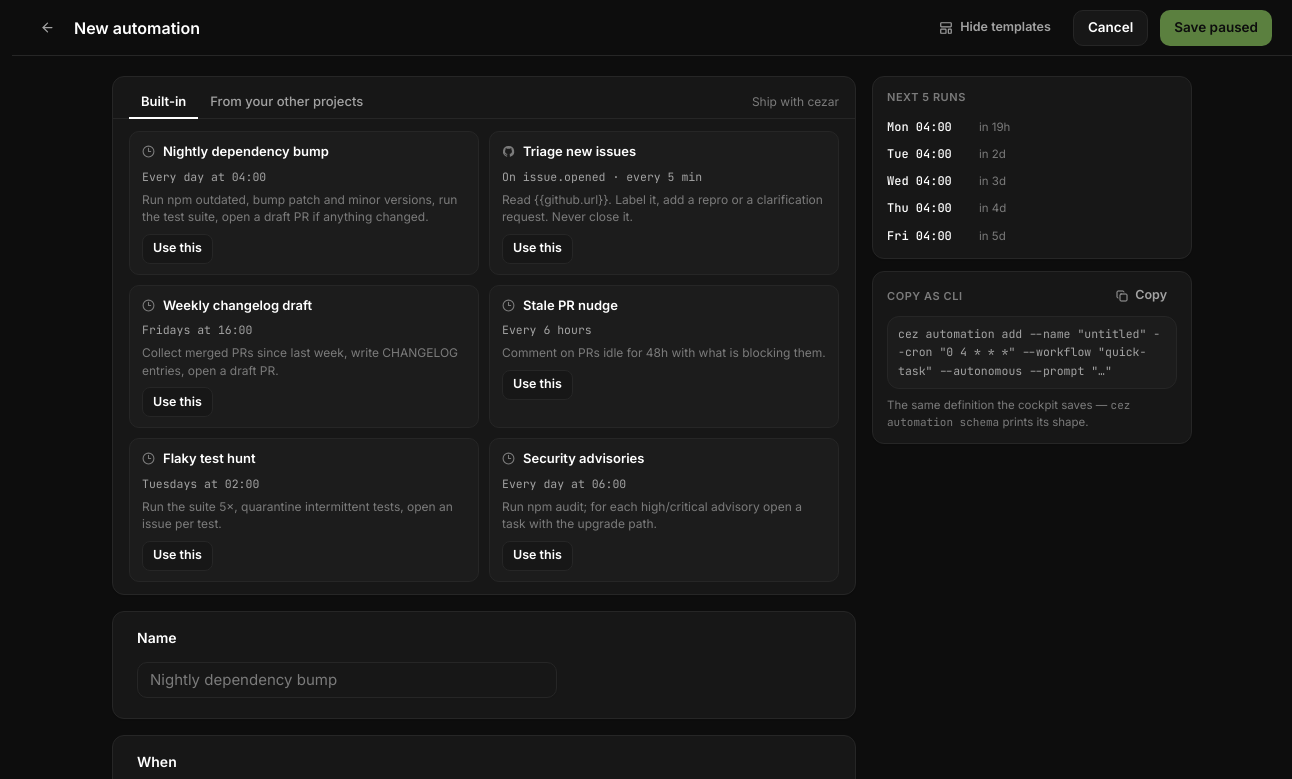
AutomationEditor — new › opens with the palette, a paused daily draft, and a save disabled until name and prompt
Expected: the heading "New automation" is shown, [74,16,200,40]
Expected: the element that starts with "Built-in" is shown, [112,76,856,595]
In the field named "Name": (347, 680) [137,662,557,698], type "Nightly bump"
(page scrolled)
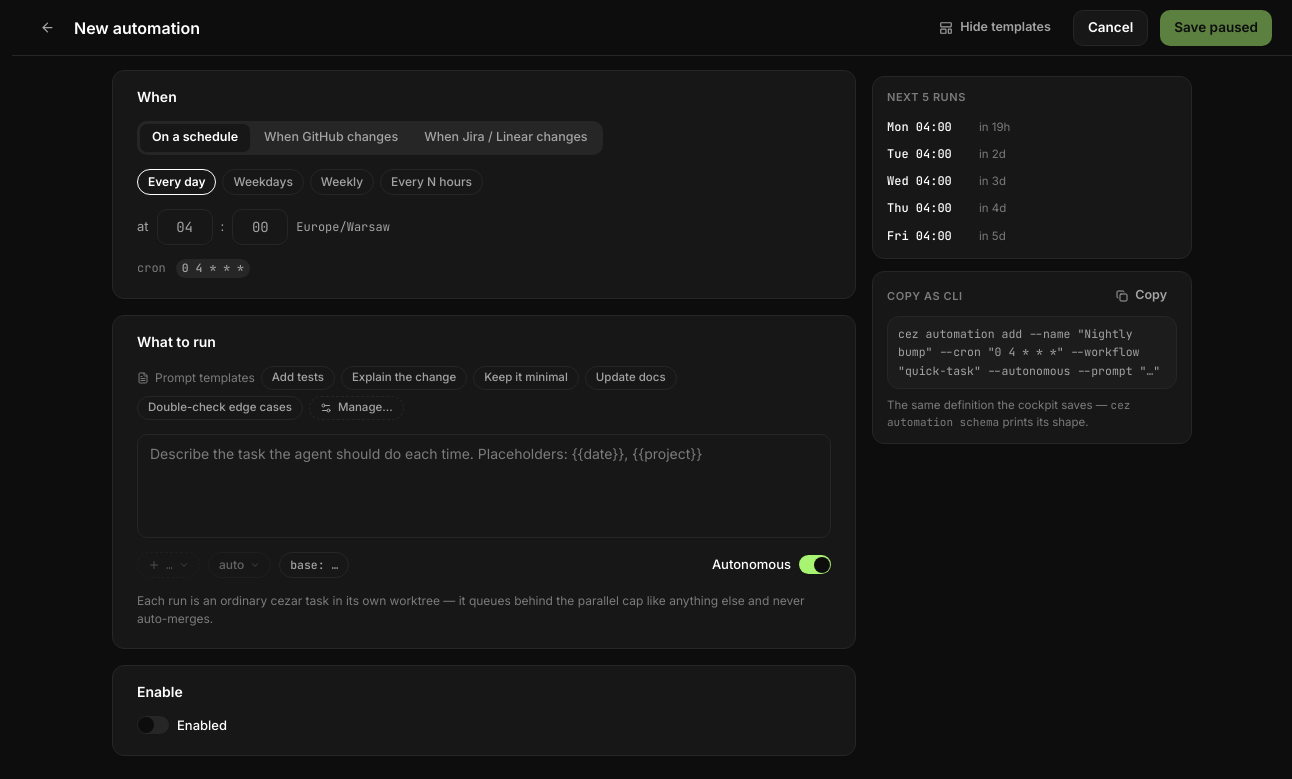
Expected: the button "Save paused" is disabled, [1160,10,1272,46]
Replace the text in the text box named "Prompt" with "Bump the deps.": (484, 486) [137,434,831,538]
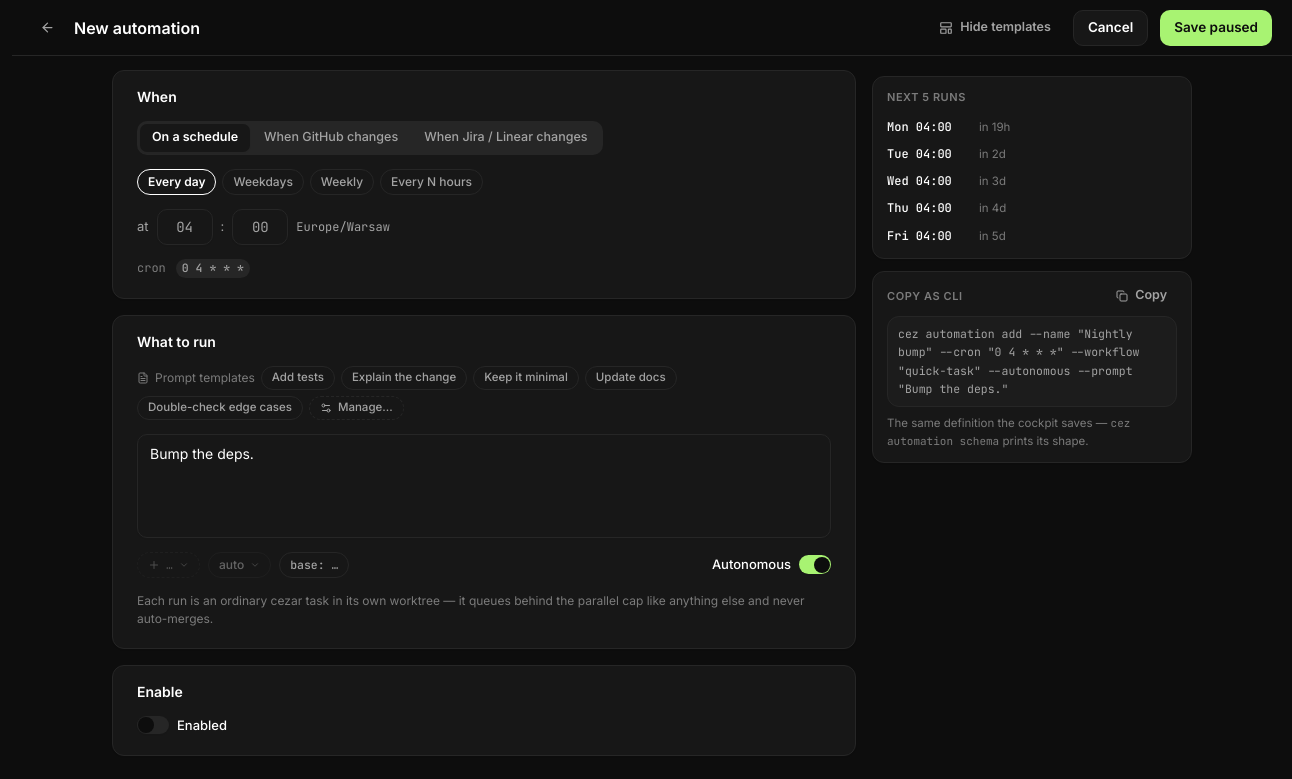
Result: the button "Save paused" is enabled at [1160,10,1272,46]
Click the switch named "Enabled": click(153, 725) [137,716,169,734]
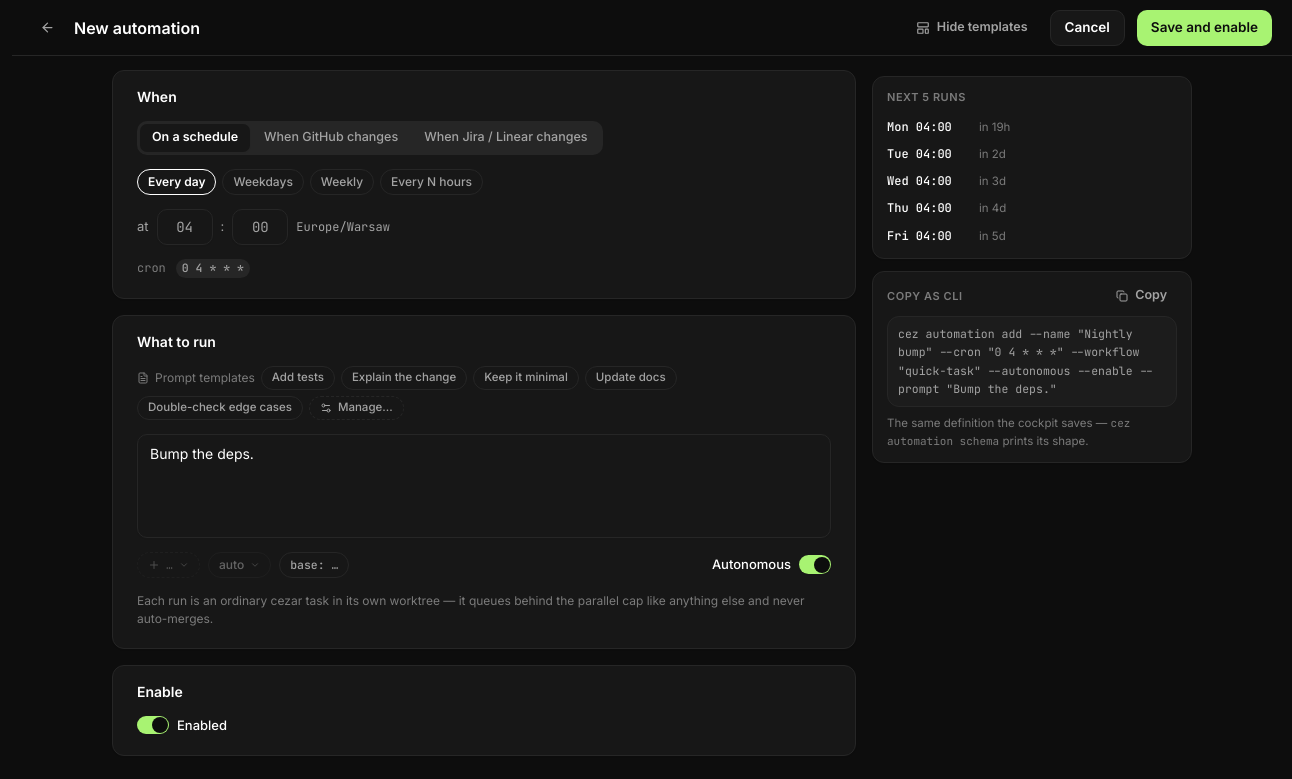
Result: the button "Save and enable" is shown at [1137,10,1272,46]
